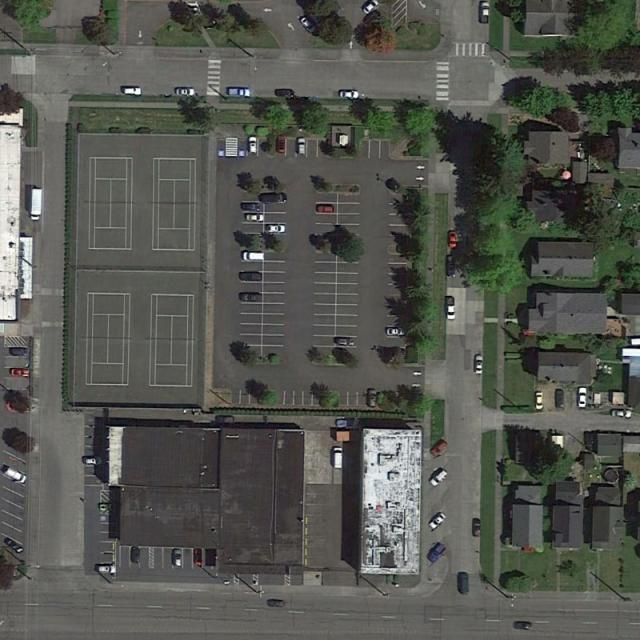vehicle: (426, 543, 446, 562), (4, 466, 26, 483), (31, 189, 42, 220), (3, 538, 24, 553), (430, 512, 446, 530), (430, 470, 446, 486), (457, 571, 468, 594), (444, 255, 455, 277), (430, 440, 446, 455), (332, 448, 342, 469), (263, 193, 286, 202), (446, 296, 455, 319), (611, 408, 631, 418), (239, 272, 261, 281), (364, 1, 379, 14), (386, 326, 405, 336), (472, 518, 482, 537), (239, 293, 260, 302), (10, 368, 30, 377), (474, 354, 483, 374), (555, 389, 564, 409), (534, 390, 543, 410), (480, 2, 489, 22), (229, 88, 251, 96), (301, 18, 314, 30), (124, 86, 141, 95), (173, 549, 182, 566), (448, 231, 457, 248), (336, 418, 355, 426), (215, 415, 234, 423), (10, 347, 26, 356), (176, 88, 194, 96), (98, 565, 116, 573), (367, 390, 376, 406), (243, 253, 263, 260), (579, 387, 586, 407), (194, 548, 202, 565), (513, 621, 530, 629), (335, 338, 354, 345), (241, 203, 260, 210), (298, 138, 306, 154), (131, 547, 139, 563), (250, 136, 257, 154), (340, 91, 358, 98), (316, 205, 333, 212), (268, 225, 285, 232), (278, 136, 285, 153), (276, 90, 294, 96), (247, 214, 262, 221), (82, 457, 97, 464), (266, 600, 283, 606), (99, 504, 111, 510)
